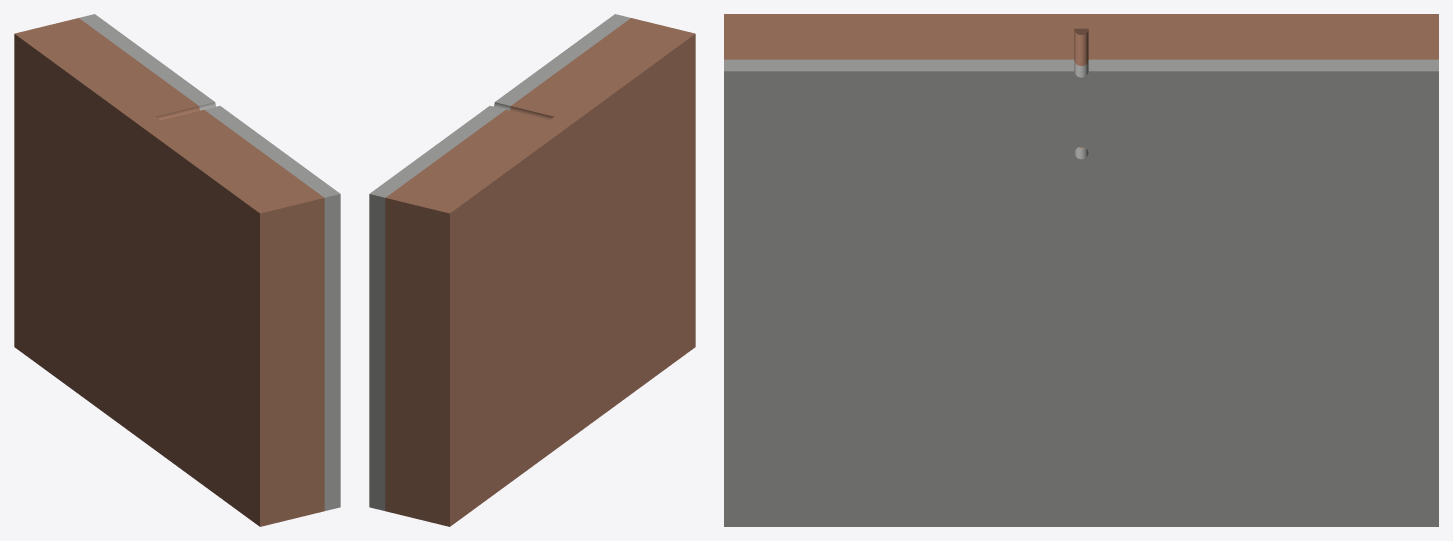
The model's file is wall.glb.
The picture shows the model from 3 angles, left to right: view 1: azimuth 30°, elevation 25°; view 2: azimuth 150°, elevation 25°; view 3: azimuth 270°, elevation 25°; orthographic projection. The views are drawn at different scales.
Parts seen in each view (by area): view 1: wall; view 2: wall; view 3: wall.
Boxes of the visible parts, x1,y1,x2,y2 form: wall: (14,14,340,526); wall: (369,14,695,526); wall: (724,14,1438,526).
Size of the model in its own units: 59.99 by 223 by 317.
